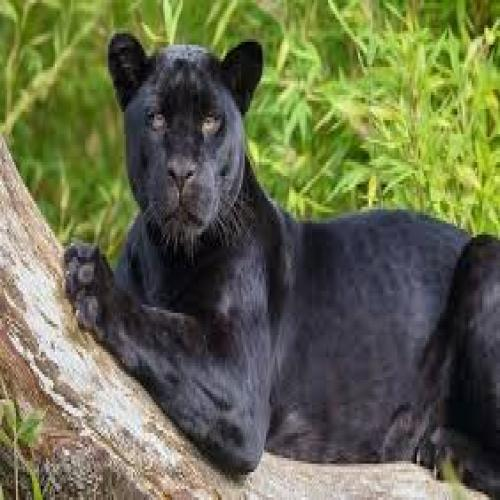panther-endangered: (65, 32, 500, 497)
